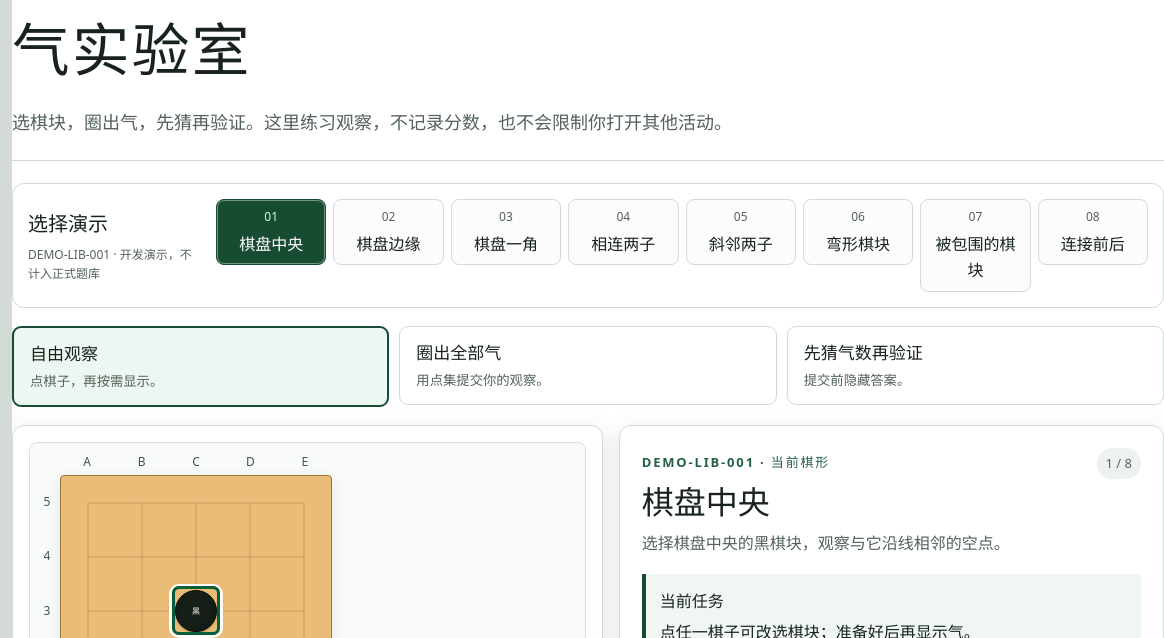
Test: T04 liberty lab interaction › reports wrong circle selections and hides the revealed hint for retry
Click the radio button labelled "圈出全部气 用点集提交你的观察。" at [588, 366], box [399,326,777,407]
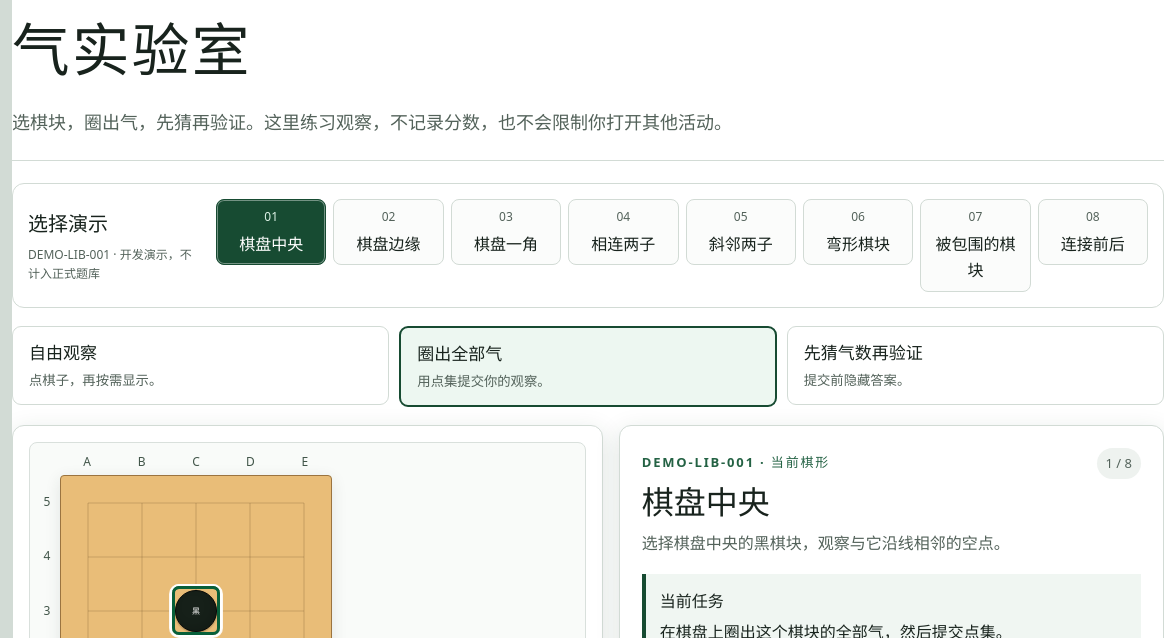
Click the cell named "A5，空点，可选择" at [88, 503], box [61,476,115,530]
(page scrolled)
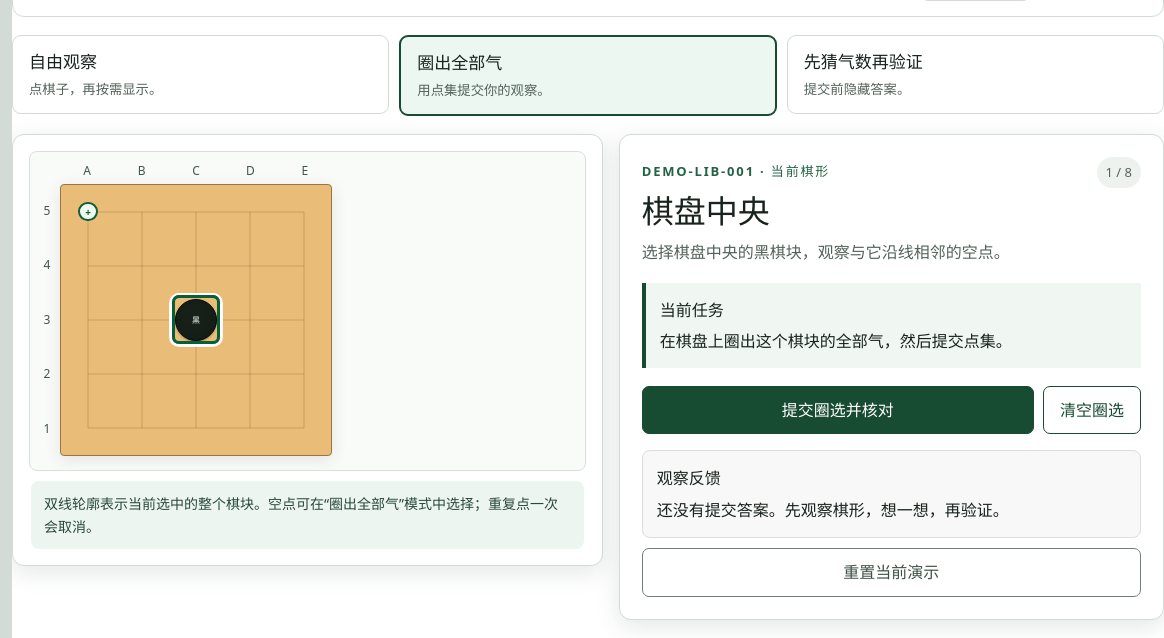
Click the button "提交圈选并核对" at [838, 410], box [642,386,1034,434]
(page scrolled)
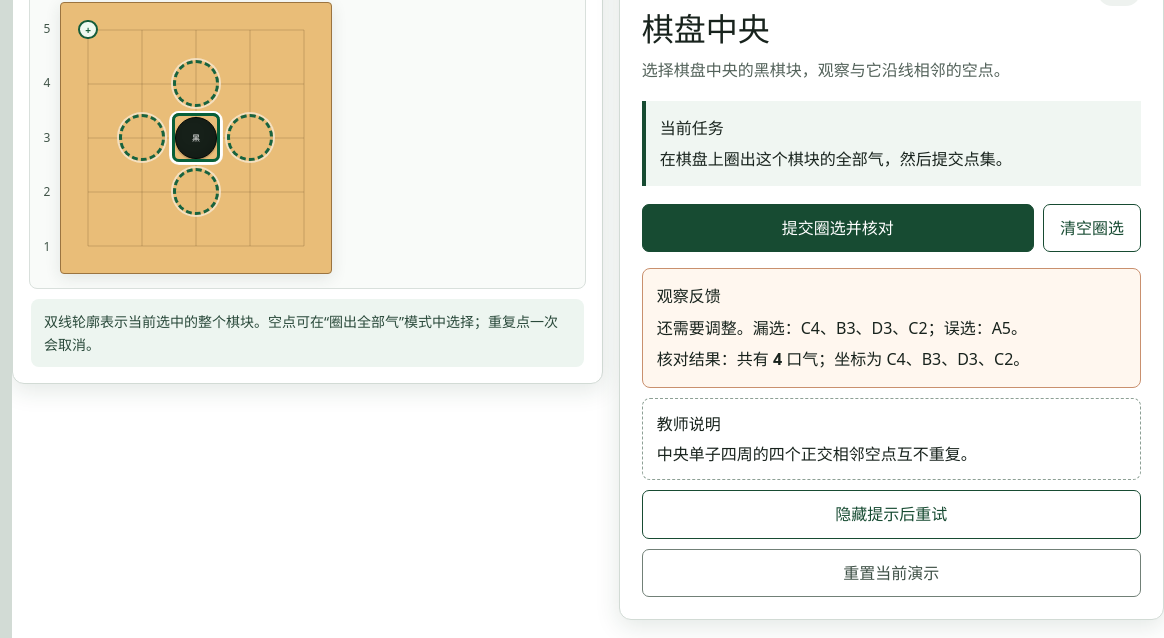
Expected: the text "漏选：C4" is shown, [657,317,1027,339]
Expected: the text "误选：A5" is shown, [657,317,1027,339]
Click the button "隐藏提示后重试" at [891, 515], box [642,490,1141,539]
(page scrolled)
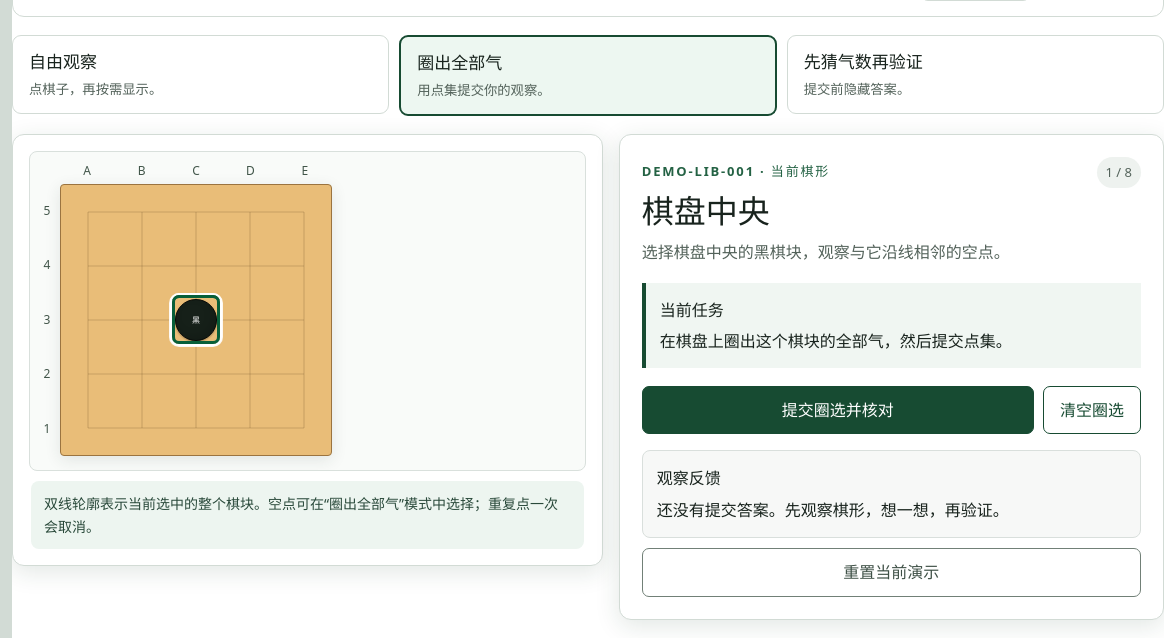
Expected: the text "漏选：C4" is gone
